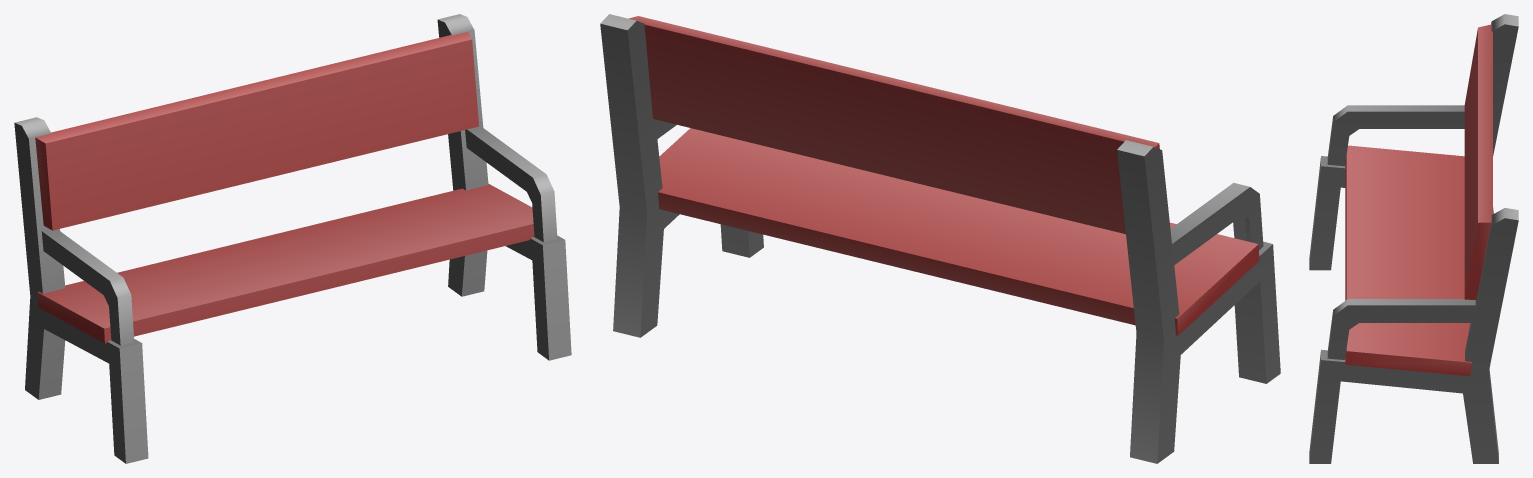
Rendered from Bench_Red.fbx.
3 views of the same model, side by side, from view 1: azimuth 30°, elevation 25°; view 2: azimuth 150°, elevation 25°; view 3: azimuth 270°, elevation 25° (orthographic). The views are drawn at different scales.
Parts seen in each view (by area): view 1: Bench_Red; view 2: Bench_Red; view 3: Bench_Red.
Boxes of the visible parts, bbox=[...] form: Bench_Red: bbox=[14, 14, 571, 463]; Bench_Red: bbox=[600, 14, 1280, 463]; Bench_Red: bbox=[1309, 14, 1518, 463].
Size of the model in its own units: 173 by 96.23 by 74.34.
